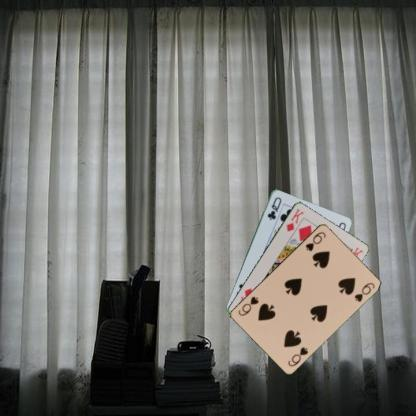6s: (302, 228, 327, 252), (285, 344, 310, 367)
Kd: (284, 206, 306, 233)
Qc: (264, 194, 283, 221)
